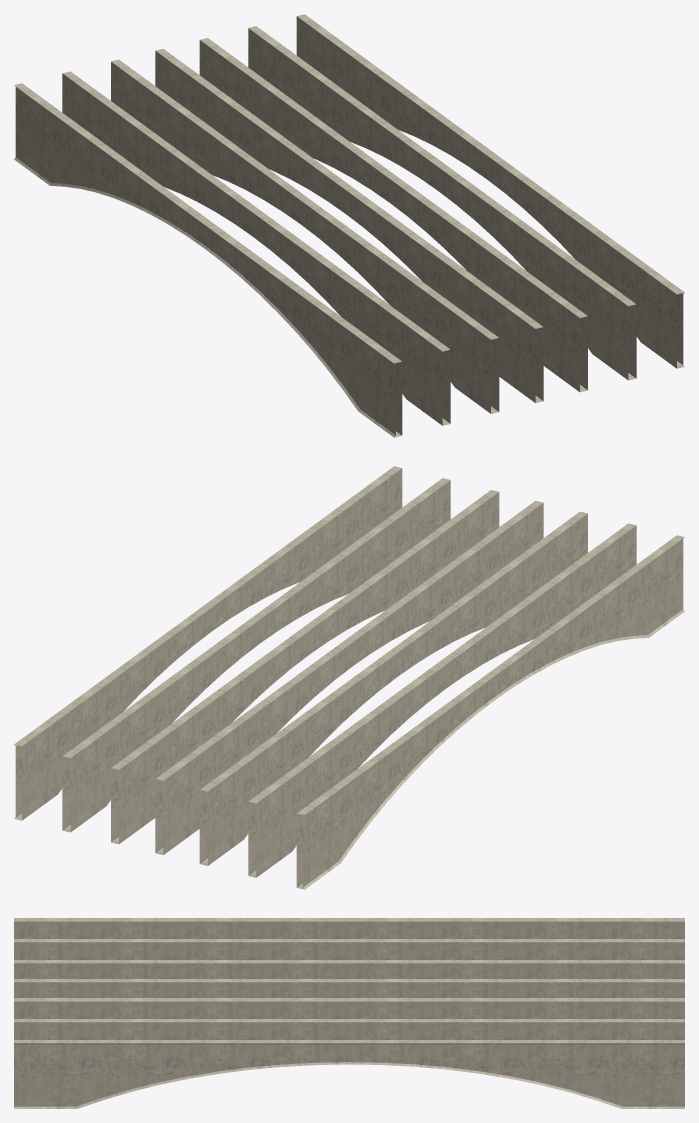
The model's file is BridgeBase6-2L-40M.FBX.
3 views of the same model, one above another, from view 1: azimuth 30°, elevation 25°; view 2: azimuth 150°, elevation 25°; view 3: azimuth 270°, elevation 25° (orthographic). The views are drawn at different scales.
Visible parts, largest first — view 1: BridgeBase6-2L-40M; view 2: BridgeBase6-2L-40M; view 3: BridgeBase6-2L-40M.
Part boxes in pixels (left/top/right/bottom): BridgeBase6-2L-40M: left=14, top=14, right=684, bottom=437; BridgeBase6-2L-40M: left=14, top=466, right=684, bottom=889; BridgeBase6-2L-40M: left=14, top=918, right=684, bottom=1108.
Bounding box in the file's own units: 18 × 4.4 × 40.76.
